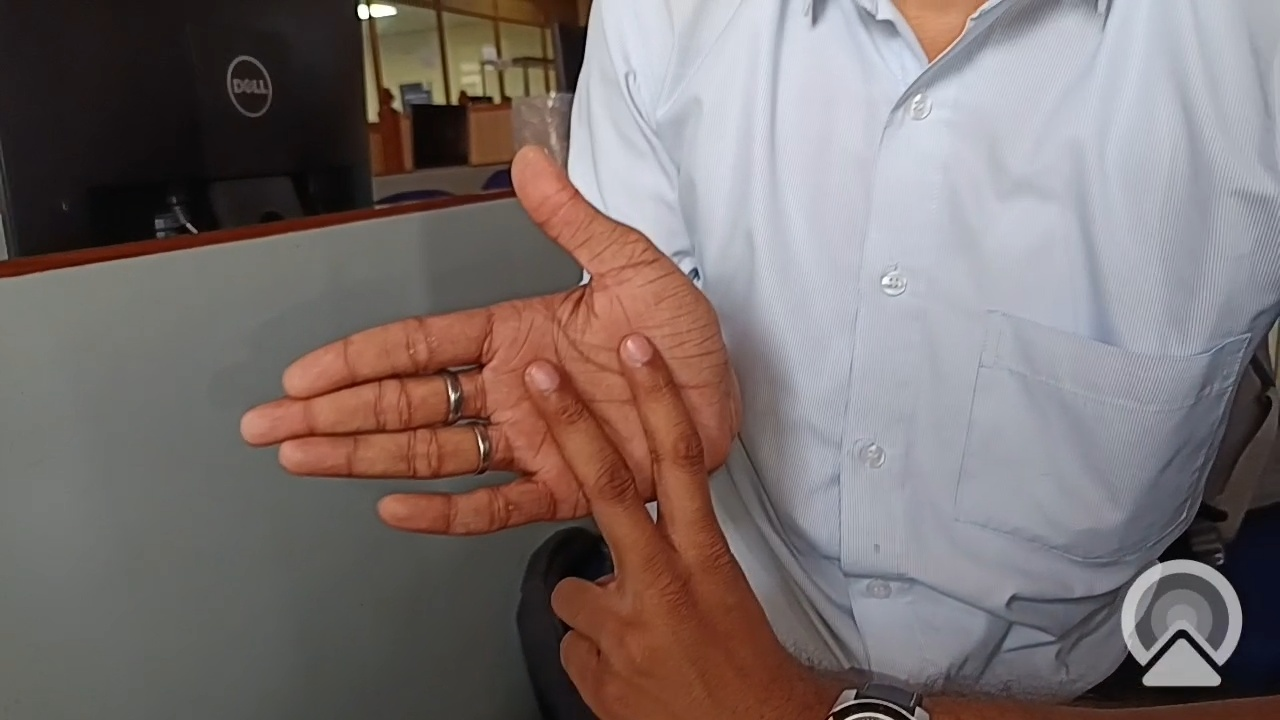N: (211, 140, 893, 715)
